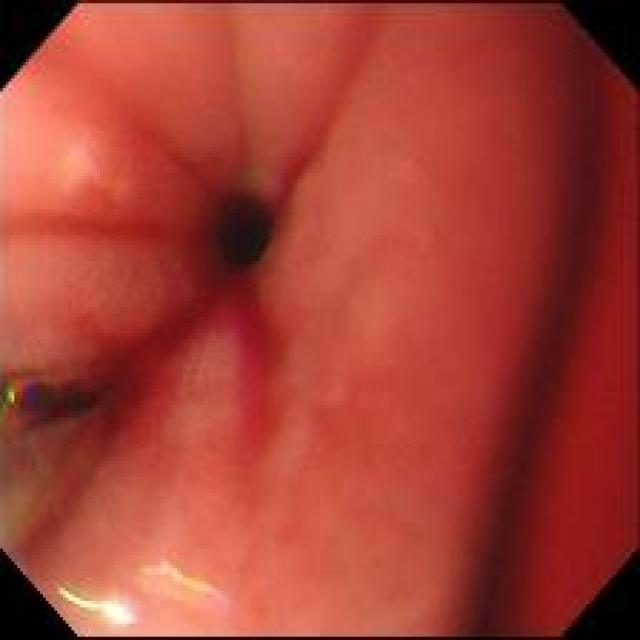blood: (93, 255, 291, 475)
blur: (451, 20, 637, 624)
color misalignment: (159, 561, 233, 609)
contrast: (216, 182, 281, 278)
instrument: (5, 369, 119, 542)
specularity: (58, 585, 134, 624)
